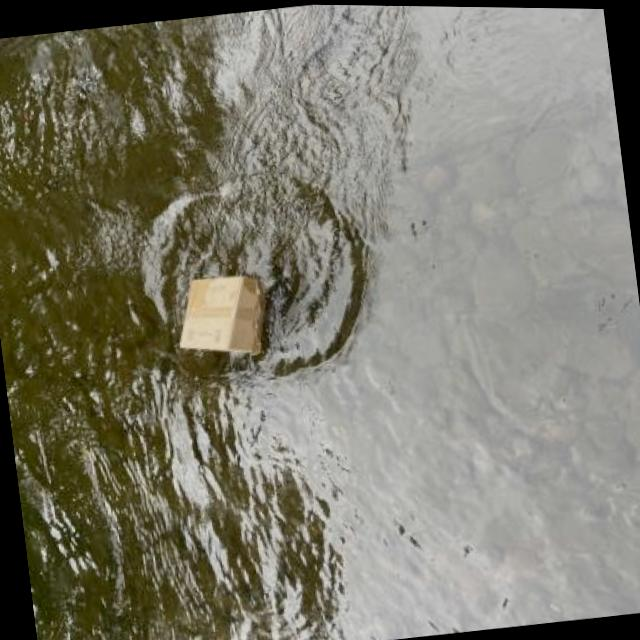Cardboard: (164, 258, 284, 365)
